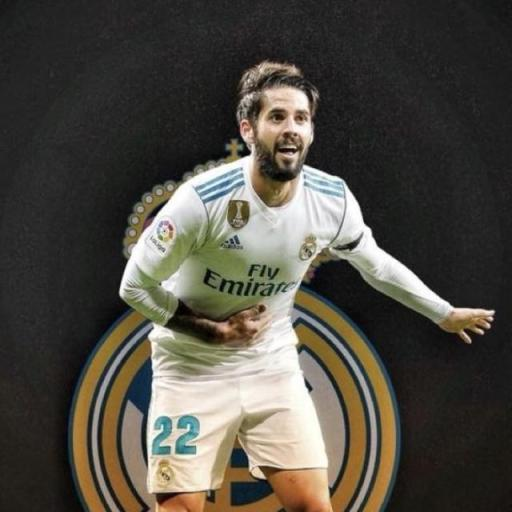Adidas: (219, 232, 244, 251)
Emirates: (201, 261, 299, 300)
